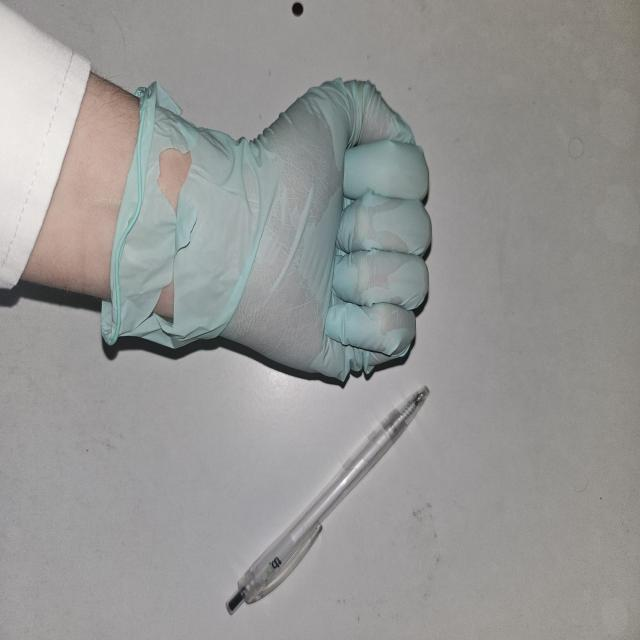gloves_damaged: (105, 75, 432, 386)
